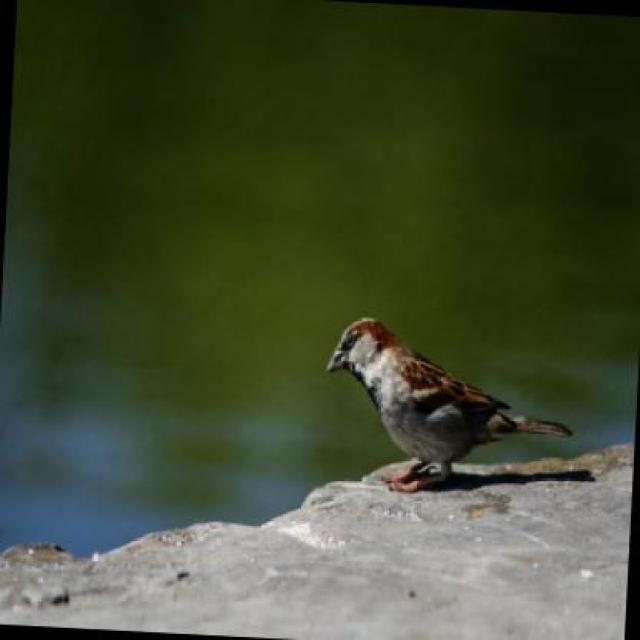sparrow: (317, 314, 575, 495)
